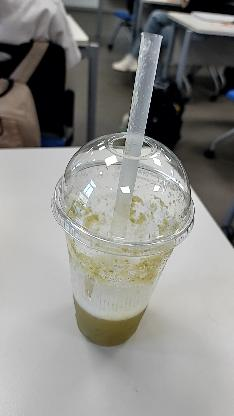Plastic Cup: (49, 126, 196, 348), (50, 131, 202, 254), (109, 30, 167, 242)
